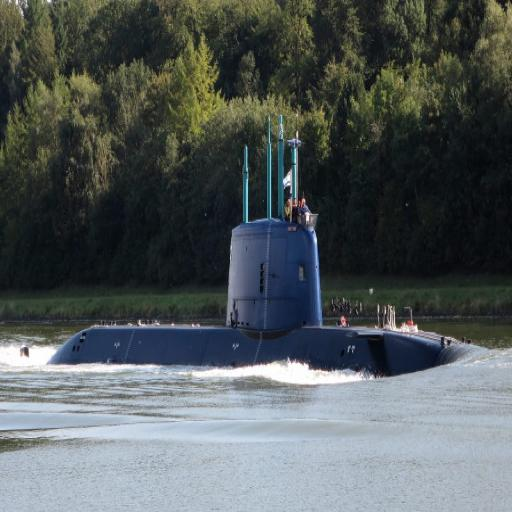submarine: (47, 106, 491, 377)
